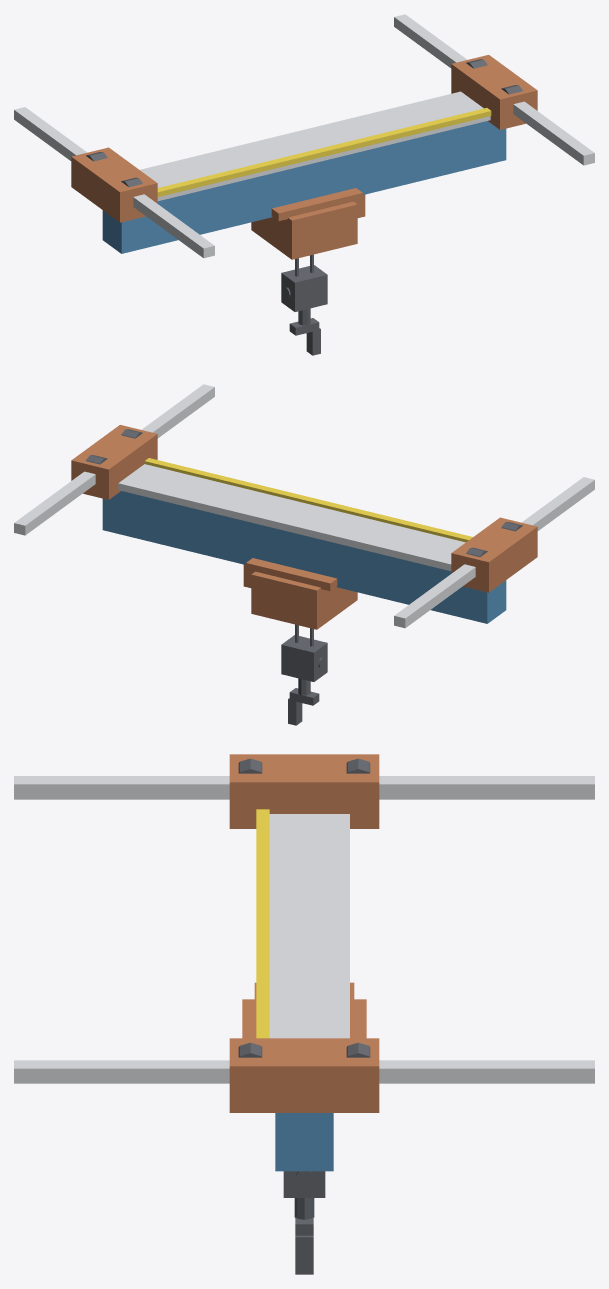
File: shipyard-and-dry-dock-shipyard-and-dry-dock-overhead-t-54f71d7c__37935.glb
3 views of the same model, one above another, from view 1: azimuth 30°, elevation 25°; view 2: azimuth 150°, elevation 25°; view 3: azimuth 270°, elevation 25° (orthographic). The views are drawn at different scales.
Parts seen in each view (by area): view 1: shipyard-and-dry-dock-overhead-travelling-crane, shed-trolley, shed-hook; view 2: shipyard-and-dry-dock-overhead-travelling-crane, shed-trolley, shed-hook; view 3: shipyard-and-dry-dock-overhead-travelling-crane, shed-hook, shed-trolley.
Part boxes in pixels (<box>): shipyard-and-dry-dock-overhead-travelling-crane: <box>14,14,594,258</box>; shed-trolley: <box>251,188,365,259</box>; shed-hook: <box>281,254,327,355</box>; shipyard-and-dry-dock-overhead-travelling-crane: <box>14,384,594,628</box>; shed-trolley: <box>243,558,357,629</box>; shed-hook: <box>281,624,327,725</box>; shipyard-and-dry-dock-overhead-travelling-crane: <box>14,754,594,1171</box>; shed-hook: <box>283,1171,325,1274</box>; shed-trolley: <box>242,982,366,1038</box>.
Size of the model in its own units: 8.9 by 4.77 by 7.
